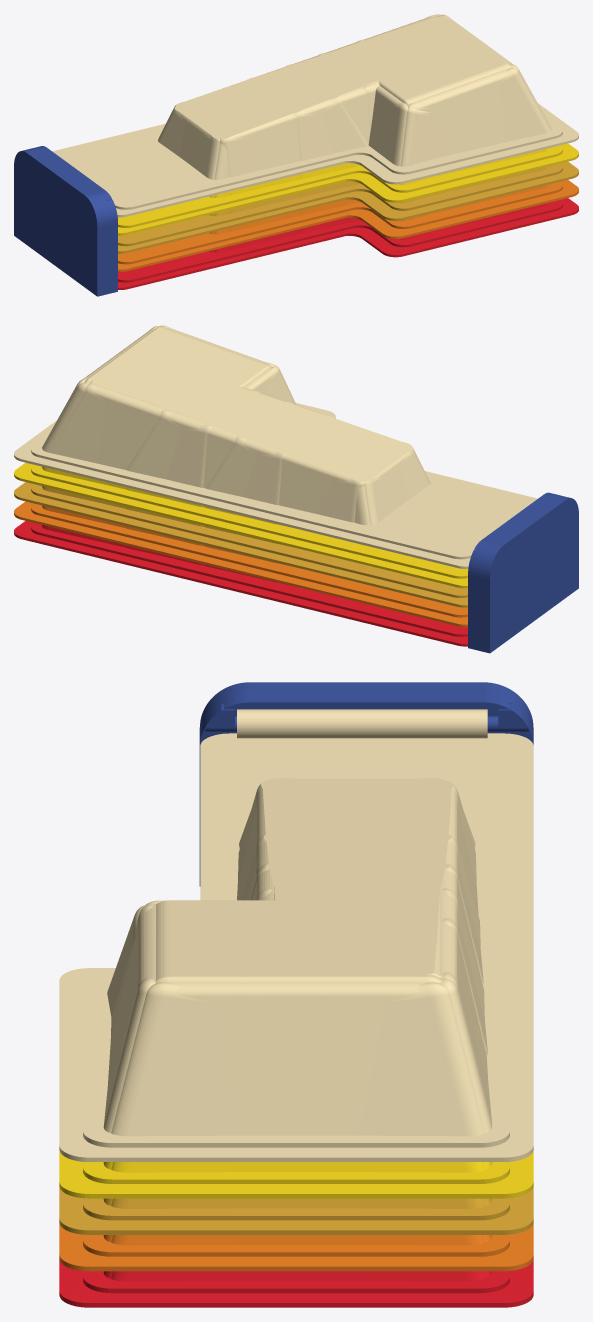
File: tinker.obj
3 renders of one model, top to bottom at view 1: azimuth 30°, elevation 25°; view 2: azimuth 150°, elevation 25°; view 3: azimuth 270°, elevation 25°, orthographic. The views are drawn at different scales.
Parts seen in each view (by area): view 1: group_0_16311991, group_0_3888547, group_0_16768282, group_0_14789940, group_0_16089887, group_0_15277357; view 2: group_0_16311991, group_0_3888547, group_0_16768282, group_0_15277357, group_0_14789940, group_0_16089887; view 3: group_0_16311991, group_0_15277357, group_0_16089887, group_0_16768282, group_0_14789940, group_0_3888547.
Part boxes in pixels (x1=…): group_0_16311991: x1=52, y1=14, x2=578, y2=217; group_0_3888547: x1=14, y1=146, x2=117, y2=296; group_0_16768282: x1=118, y1=143, x2=578, y2=235; group_0_14789940: x1=118, y1=161, x2=578, y2=253; group_0_16089887: x1=118, y1=180, x2=578, y2=271; group_0_15277357: x1=118, y1=198, x2=578, y2=289; group_0_16311991: x1=14, y1=325, x2=537, y2=568; group_0_3888547: x1=468, y1=492, x2=578, y2=653; group_0_16768282: x1=14, y1=462, x2=468, y2=588; group_0_15277357: x1=14, y1=521, x2=467, y2=646; group_0_14789940: x1=14, y1=482, x2=467, y2=607; group_0_16089887: x1=14, y1=501, x2=467, y2=627; group_0_16311991: x1=59, y1=709, x2=533, y2=1161; group_0_15277357: x1=59, y1=1259, x2=533, y2=1307; group_0_16089887: x1=59, y1=1223, x2=533, y2=1271; group_0_16768282: x1=59, y1=1150, x2=533, y2=1198; group_0_14789940: x1=59, y1=1186, x2=533, y2=1234; group_0_3888547: x1=199, y1=682, x2=533, y2=886.
Bounding box in the file's own units: 208 × 62 × 94.47.
